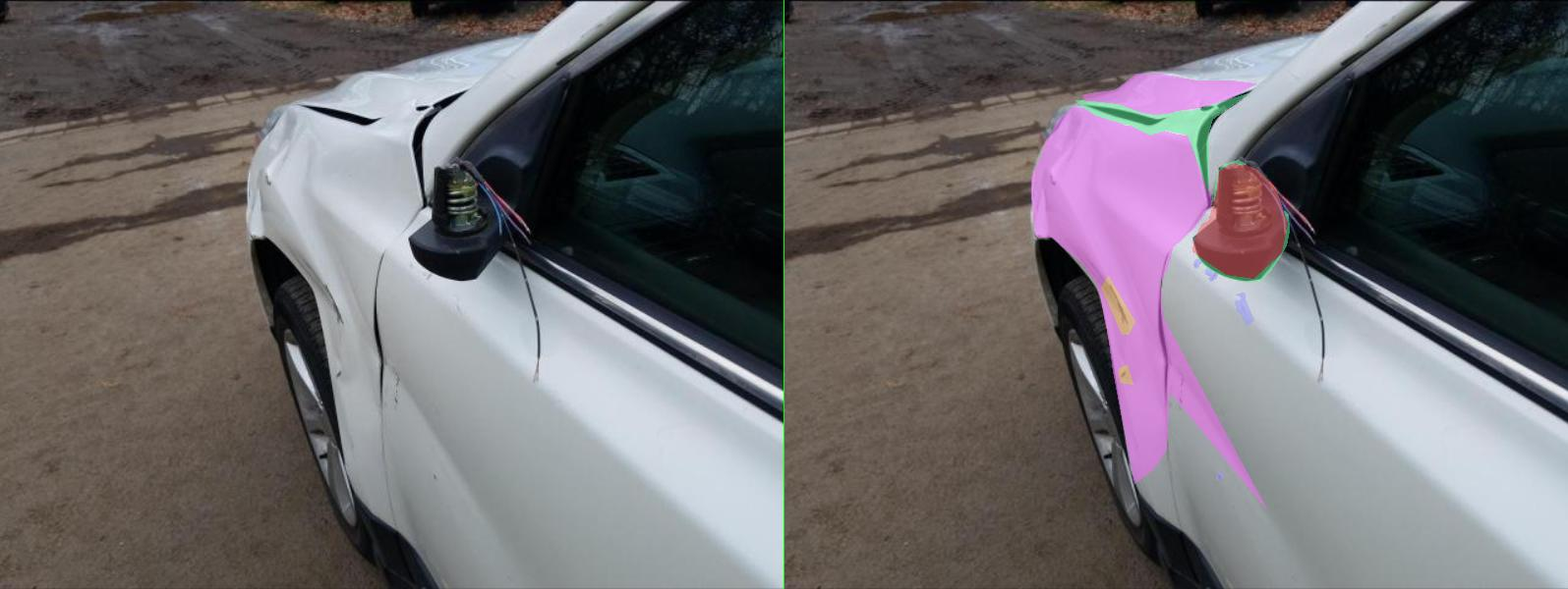Broken part: (582, 93, 927, 191), (818, 160, 1009, 281)
Dent: (494, 107, 964, 509), (596, 74, 942, 119)
Missing part: (816, 164, 1005, 278)
Paint chip: (633, 276, 700, 334), (669, 364, 696, 384)
Scratch: (588, 253, 693, 326), (769, 354, 805, 406), (899, 298, 938, 325), (903, 293, 923, 313), (529, 173, 543, 187), (848, 272, 866, 281), (818, 259, 834, 267), (673, 368, 685, 378), (864, 471, 877, 480), (842, 269, 856, 276)
